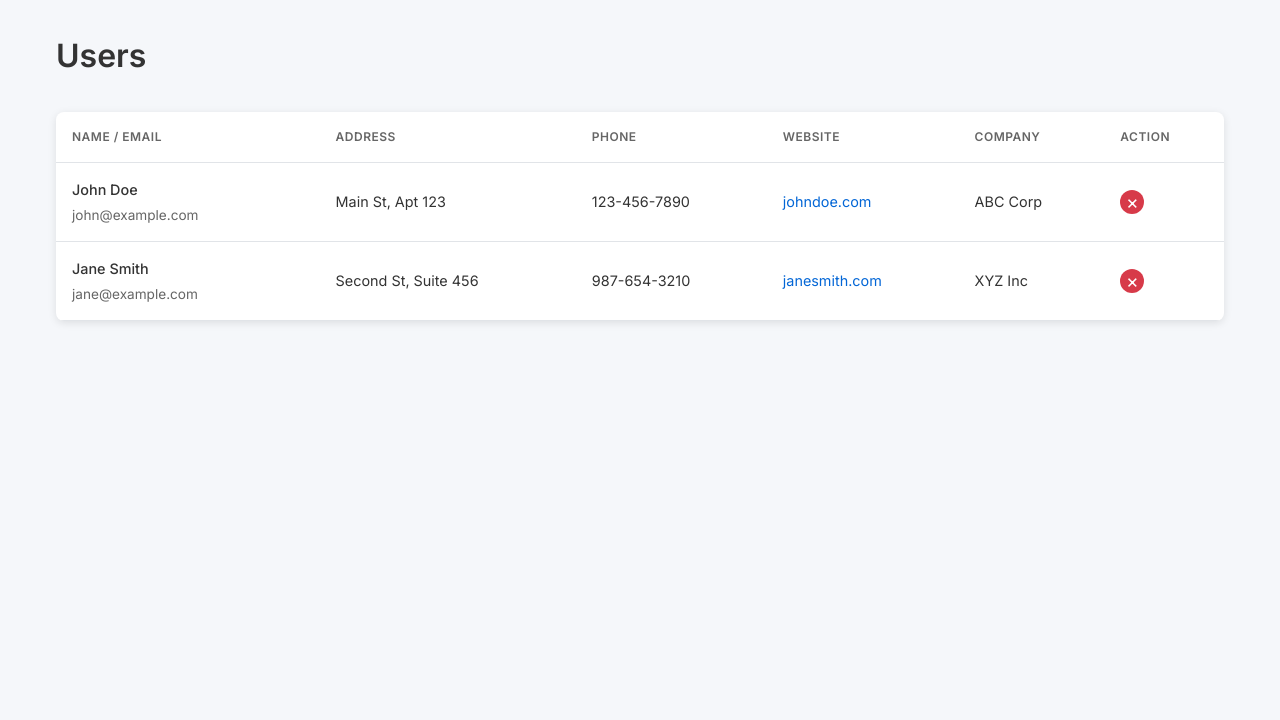
Test: App › closes modal when close button is clicked
// Open modal
Click the text "John Doe" at {"x": 105, "y": 190}, box x1=72 y1=181 x2=138 y2=198
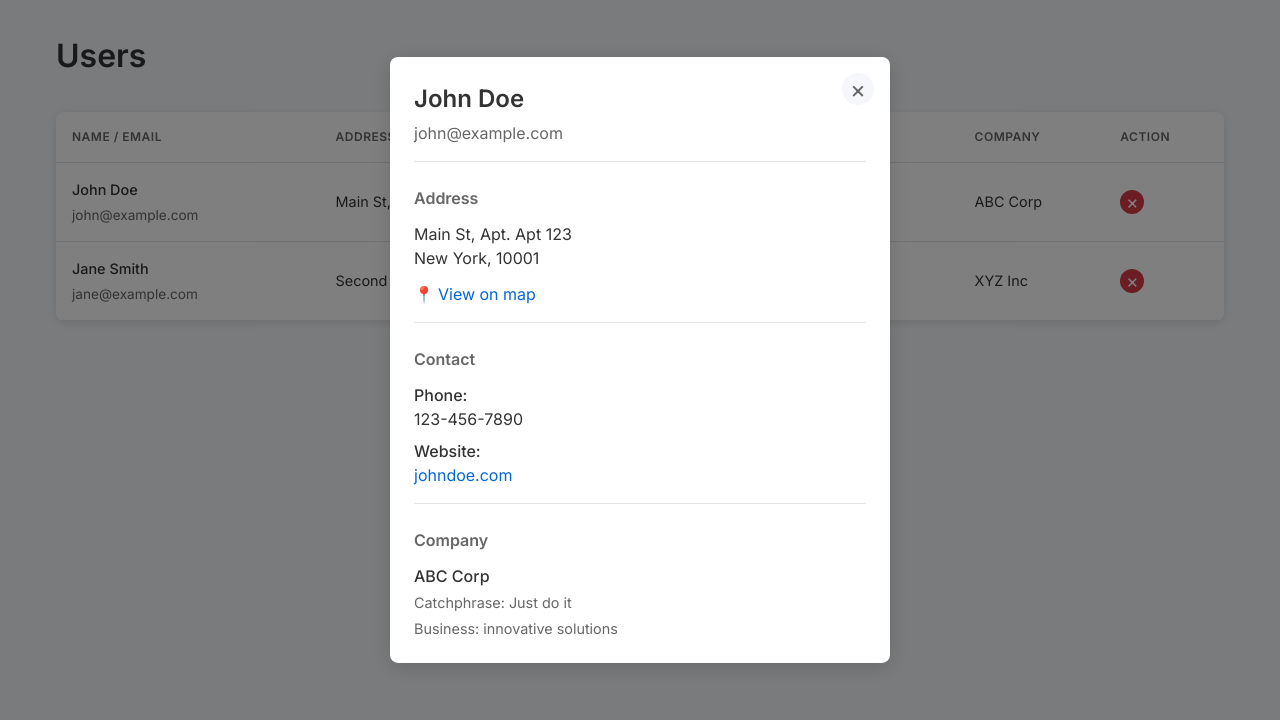
expect the dialog is shown: met, box x1=390 y1=57 x2=890 y2=663
// Close modal
Click the button named "Close modal" at {"x": 858, "y": 89}, box x1=842 y1=73 x2=874 y2=105
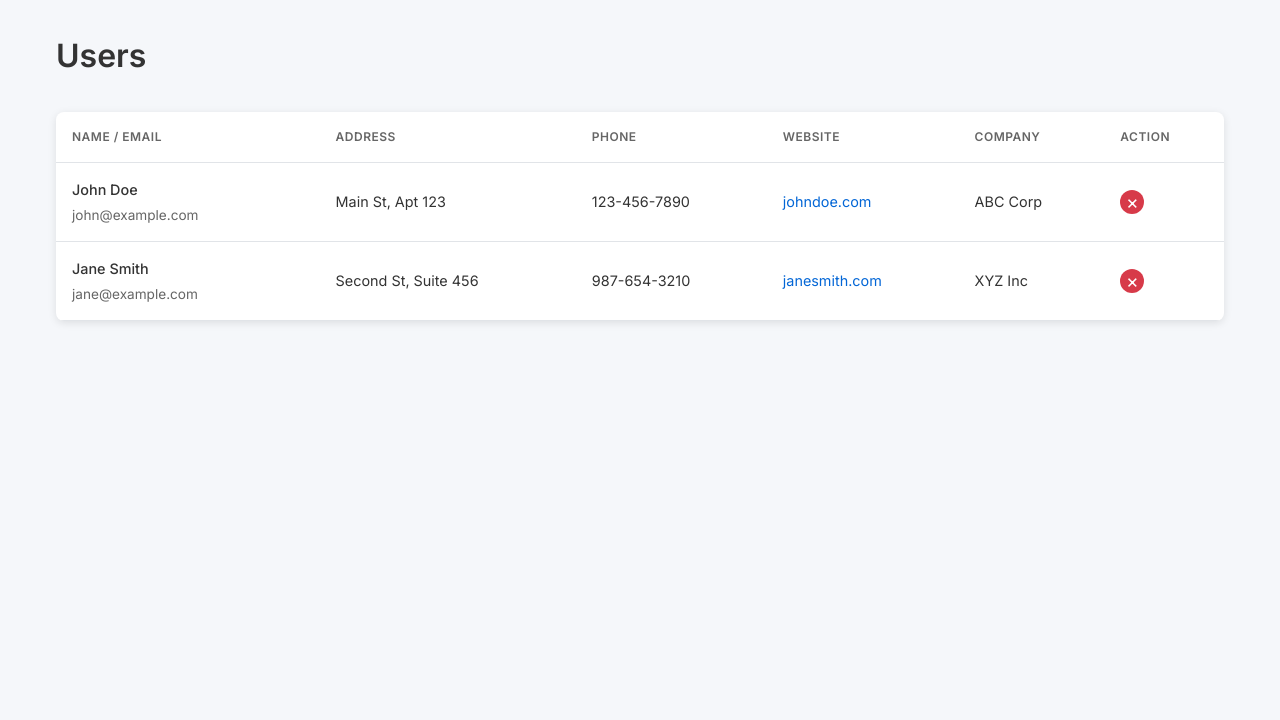
expect the dialog is gone: met
